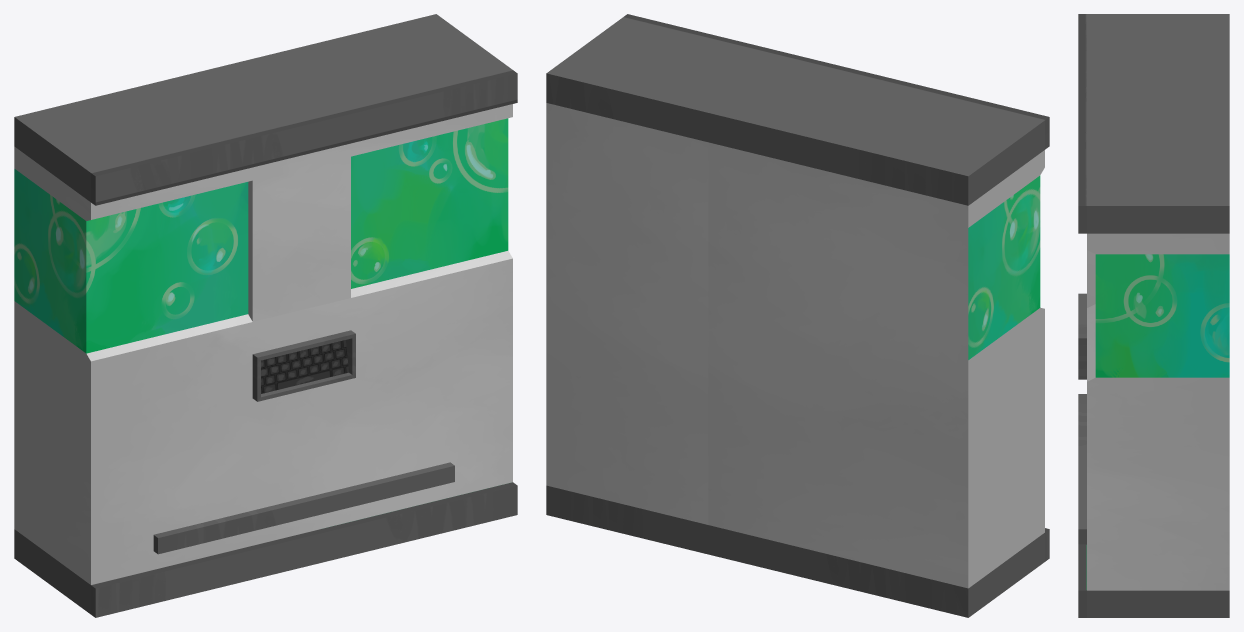
Rendered from Wall_DoubleBubble.fbx.
3 renders of one model, left to right at view 1: azimuth 30°, elevation 25°; view 2: azimuth 150°, elevation 25°; view 3: azimuth 270°, elevation 25°, orthographic. The views are drawn at different scales.
Parts seen in each view (by area): view 1: Wall_DoubleBubble; view 2: Wall_DoubleBubble; view 3: Wall_DoubleBubble.
Boxes of the visible parts, bbox=[...] form: Wall_DoubleBubble: bbox=[14, 14, 517, 617]; Wall_DoubleBubble: bbox=[546, 14, 1049, 617]; Wall_DoubleBubble: bbox=[1078, 14, 1229, 617].
Size of the model in its own units: 300 by 300 by 100.
